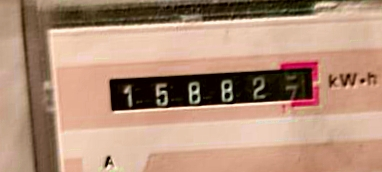1: (122, 84, 137, 109)
2: (251, 75, 267, 100)
5: (153, 81, 171, 108)
7: (285, 82, 300, 102)
8: (186, 80, 204, 107), (219, 78, 236, 104)
screen: (95, 54, 330, 127)
